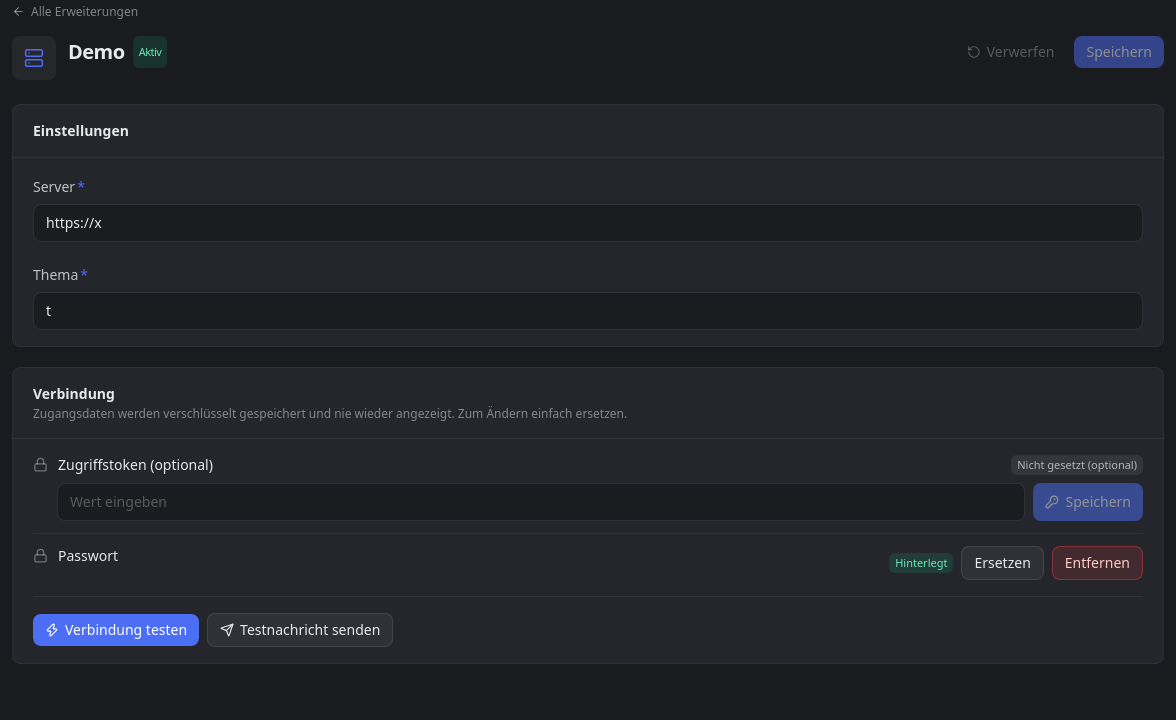
Verbindung testen › zeigt einen Fehler rot, samt Ergebnis je Verbindung
Click the button "Verbindung testen": click(116, 630) [33,614,199,646]
(page scrolled)
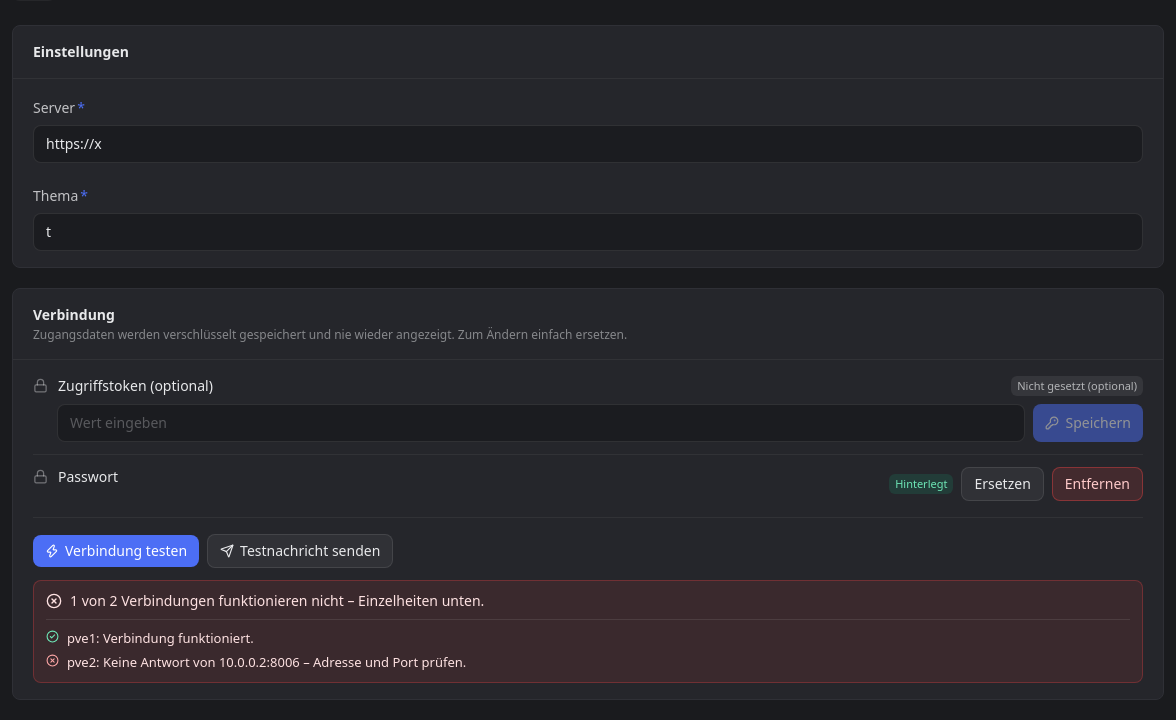
Expected: the text "1 von 2 Verbindungen" is shown, [70,591,484,610]
Expected: the text "Keine Antwort von 10.0.0.2:8006" is shown, [103,653,466,671]
Expected: the text "pve1:" is shown, [67,629,100,647]
